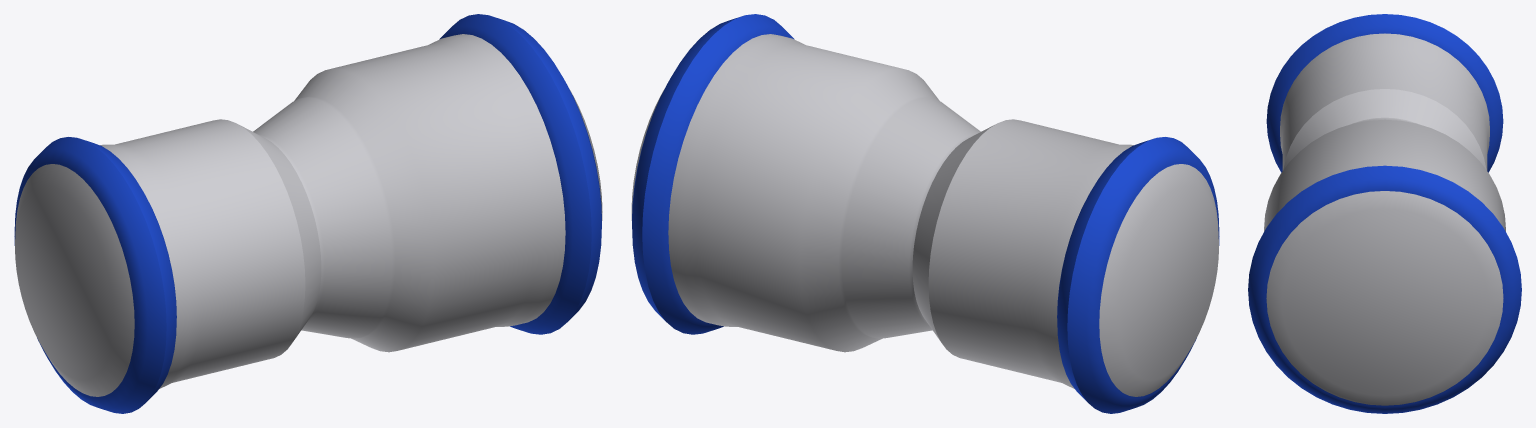
File: fitting_cp_28x22.glb
3 renders of one model, left to right at view 1: azimuth 30°, elevation 25°; view 2: azimuth 150°, elevation 25°; view 3: azimuth 270°, elevation 25°, orthographic. The views are drawn at different scales.
Visible parts, largest first — view 1: муфта, кольцо пресс, кольцо пресс.001; view 2: муфта, кольцо пресс, кольцо пресс.001; view 3: муфта, кольцо пресс.001, кольцо пресс.
Boxes of the visible parts, left/top/right/bottom form: муфта: left=15, top=34, right=602, bottom=396; кольцо пресс: left=14, top=137, right=176, bottom=413; кольцо пресс.001: left=439, top=14, right=601, bottom=334; муфта: left=631, top=34, right=1218, bottom=396; кольцо пресс: left=1057, top=137, right=1219, bottom=413; кольцо пресс.001: left=632, top=14, right=794, bottom=334; муфта: left=1264, top=33, right=1505, bottom=405; кольцо пресс.001: left=1248, top=165, right=1521, bottom=413; кольцо пресс: left=1266, top=14, right=1503, bottom=172.
Size of the model in its own units: 0.069 by 0.0412 by 0.0412.
